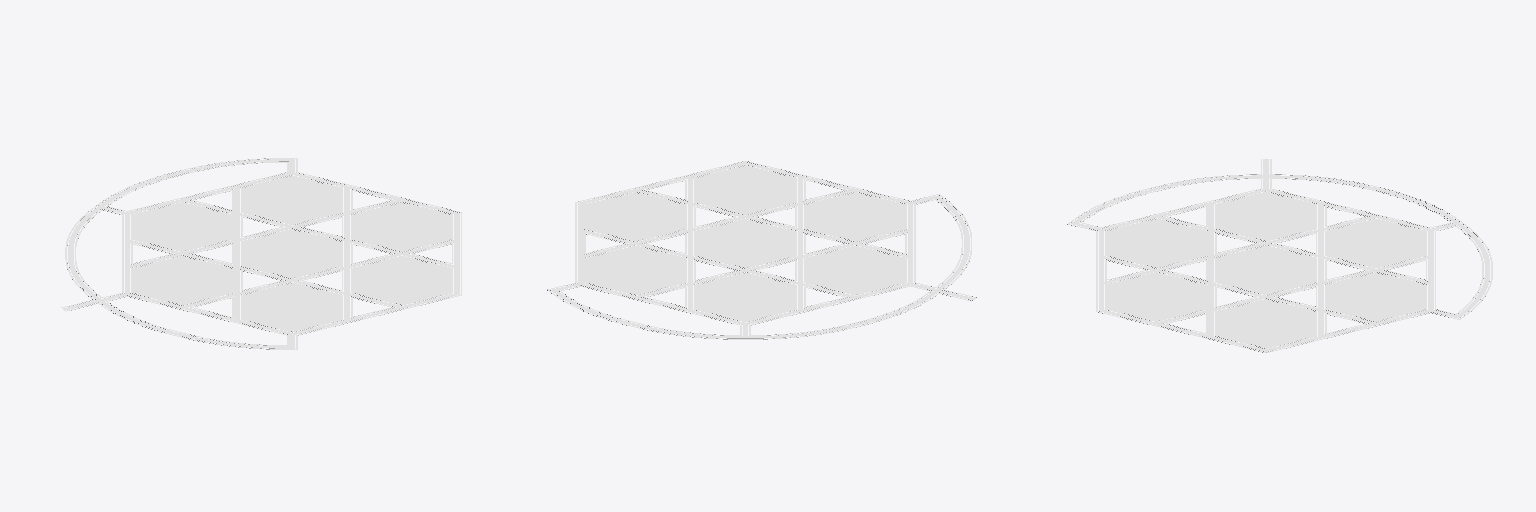
File: AlphaVille_EastPart.obj
The picture shows the model from 3 angles: view 1: azimuth 30°, elevation 25°; view 2: azimuth 150°, elevation 25°; view 3: azimuth 270°, elevation 25°; orthographic projection.
Visible parts, largest first — view 1: Sidewalk_East, Street_EastRing001, Street_East002, Street_East003, Street_East010, Street_East011, Street_East006, Street_East007; view 2: Sidewalk_East, Street_EastRing001, Street_East003, Street_East002, Street_East007, Street_East006, Street_East010, Street_East011; view 3: Sidewalk_East, Street_EastRing001, Street_East002, Street_East003, Street_East006, Street_East007, Street_East011, Street_East010.
Part boxes in pixels (bbox=[...]): Sidewalk_East: bbox=[61, 158, 461, 349]; Street_EastRing001: bbox=[68, 159, 294, 297]; Street_East002: bbox=[128, 200, 403, 268]; Street_East003: bbox=[181, 239, 456, 307]; Street_East010: bbox=[127, 240, 401, 307]; Street_East011: bbox=[183, 200, 455, 266]; Street_East006: bbox=[233, 187, 241, 320]; Street_East007: bbox=[342, 187, 349, 320]; Sidewalk_East: bbox=[547, 161, 976, 339]; Street_EastRing001: bbox=[551, 288, 934, 337]; Street_East003: bbox=[634, 190, 909, 258]; Street_East002: bbox=[581, 229, 856, 296]; Street_East007: bbox=[582, 190, 854, 256]; Street_East006: bbox=[637, 230, 909, 296]; Street_East010: bbox=[798, 177, 802, 310]; Street_East011: bbox=[688, 177, 692, 310]; Sidewalk_East: bbox=[1067, 159, 1492, 352]; Street_EastRing001: bbox=[1274, 176, 1489, 317]; Street_East002: bbox=[1317, 203, 1325, 336]; Street_East003: bbox=[1206, 203, 1215, 336]; Street_East006: bbox=[1157, 217, 1430, 283]; Street_East007: bbox=[1102, 257, 1374, 323]; Street_East011: bbox=[1157, 257, 1429, 323]; Street_East010: bbox=[1102, 217, 1374, 283].
Bounding box in the file's own units: 872 × 0.3 × 806.